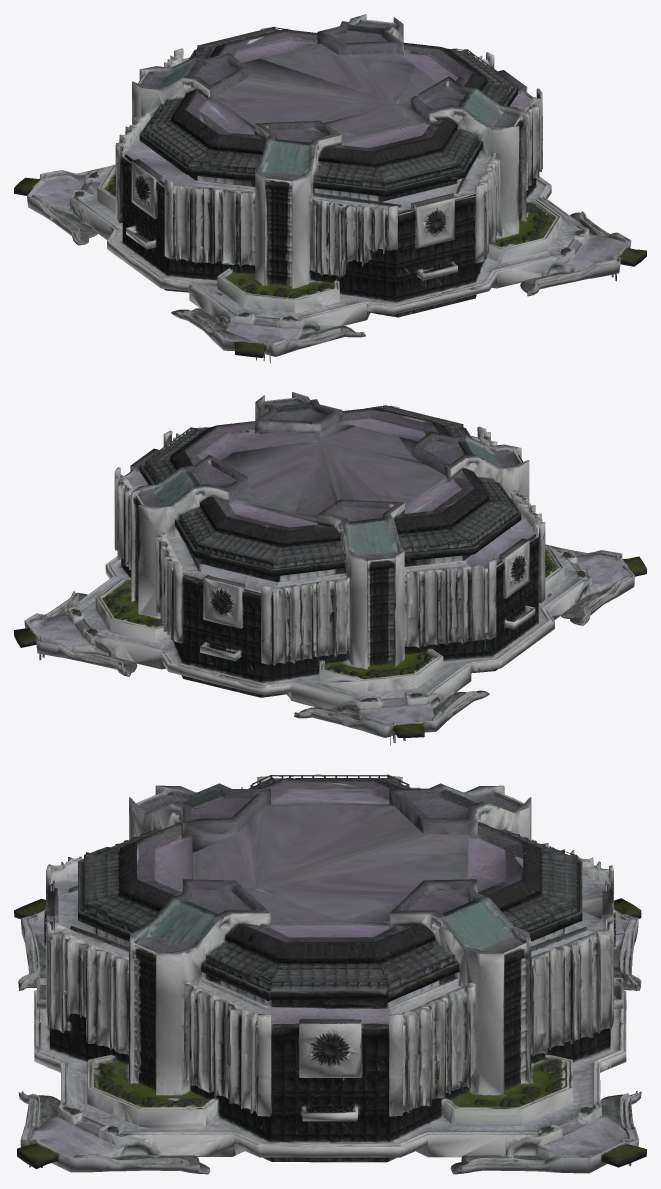
File: ndk.glb
3 views of the same model, one above another, from view 1: azimuth 30°, elevation 25°; view 2: azimuth 150°, elevation 25°; view 3: azimuth 270°, elevation 25° (orthographic). The views are drawn at different scales.
Visible parts, largest first — view 1: Mesh_0; view 2: Mesh_0; view 3: Mesh_0.
Part boxes in pixels (x1=…): Mesh_0: x1=14, y1=14, x2=646, y2=363; Mesh_0: x1=14, y1=392, x2=646, y2=745; Mesh_0: x1=14, y1=774, x2=646, y2=1174.
Size of the model in its own units: 1.73 by 0.6286 by 1.75.
1 material, 1 textured.
